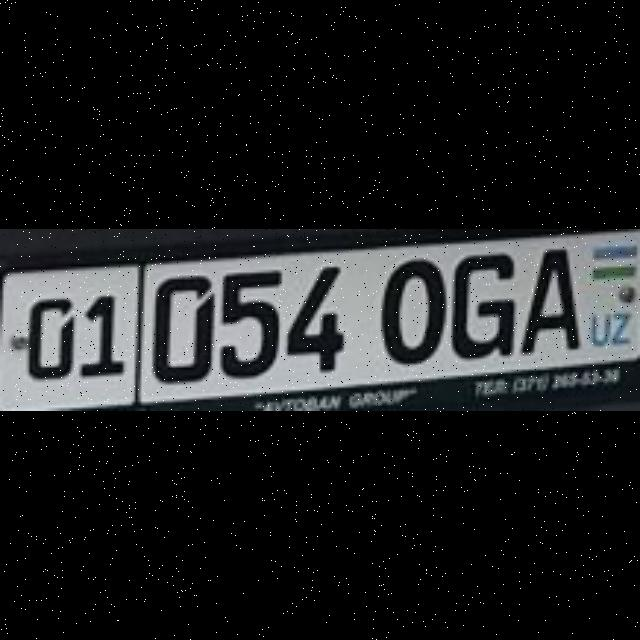0: (147, 273, 209, 379), (24, 294, 70, 376)
1: (76, 291, 120, 373)
4: (282, 262, 341, 371)
5: (217, 266, 279, 376)
A: (517, 244, 579, 350)
G: (446, 249, 512, 355)
O: (376, 255, 440, 361)
